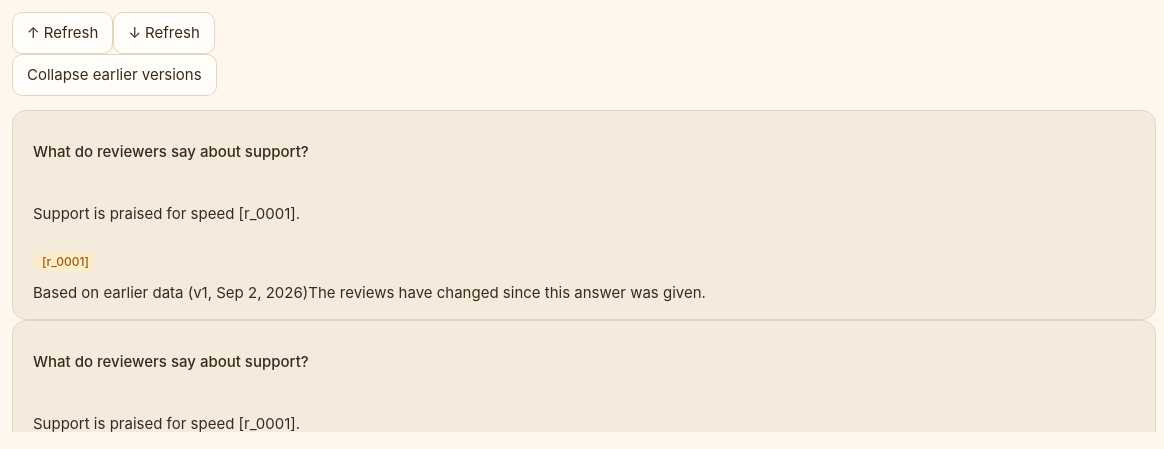
HistoryPane toolbar — collapse earlier versions (Req 9.5) › folds earlier versions into summary rows and keeps markers + current
Check: the 1st element with test id "history-exchange" is shown, box [12, 110, 1156, 320]
Click the button with test id "history-collapse-toggle".
click(114, 75)  # box [12, 54, 217, 96]
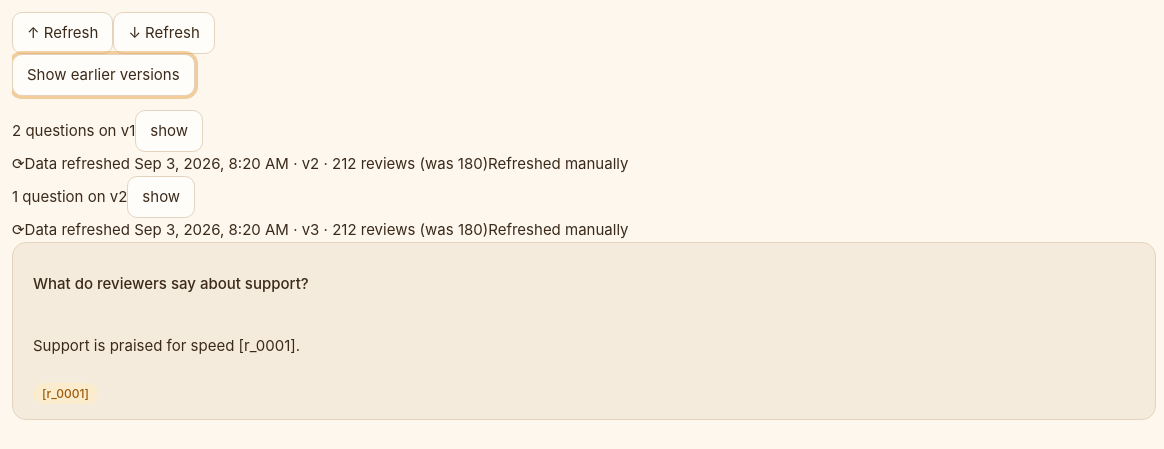
Check: the number of elements with test id "history-collapsed-version" is 2, box [12, 110, 203, 152]; [12, 176, 195, 218]
Check: the number of elements with test id "history-exchange" is 1, box [12, 242, 1156, 420]
